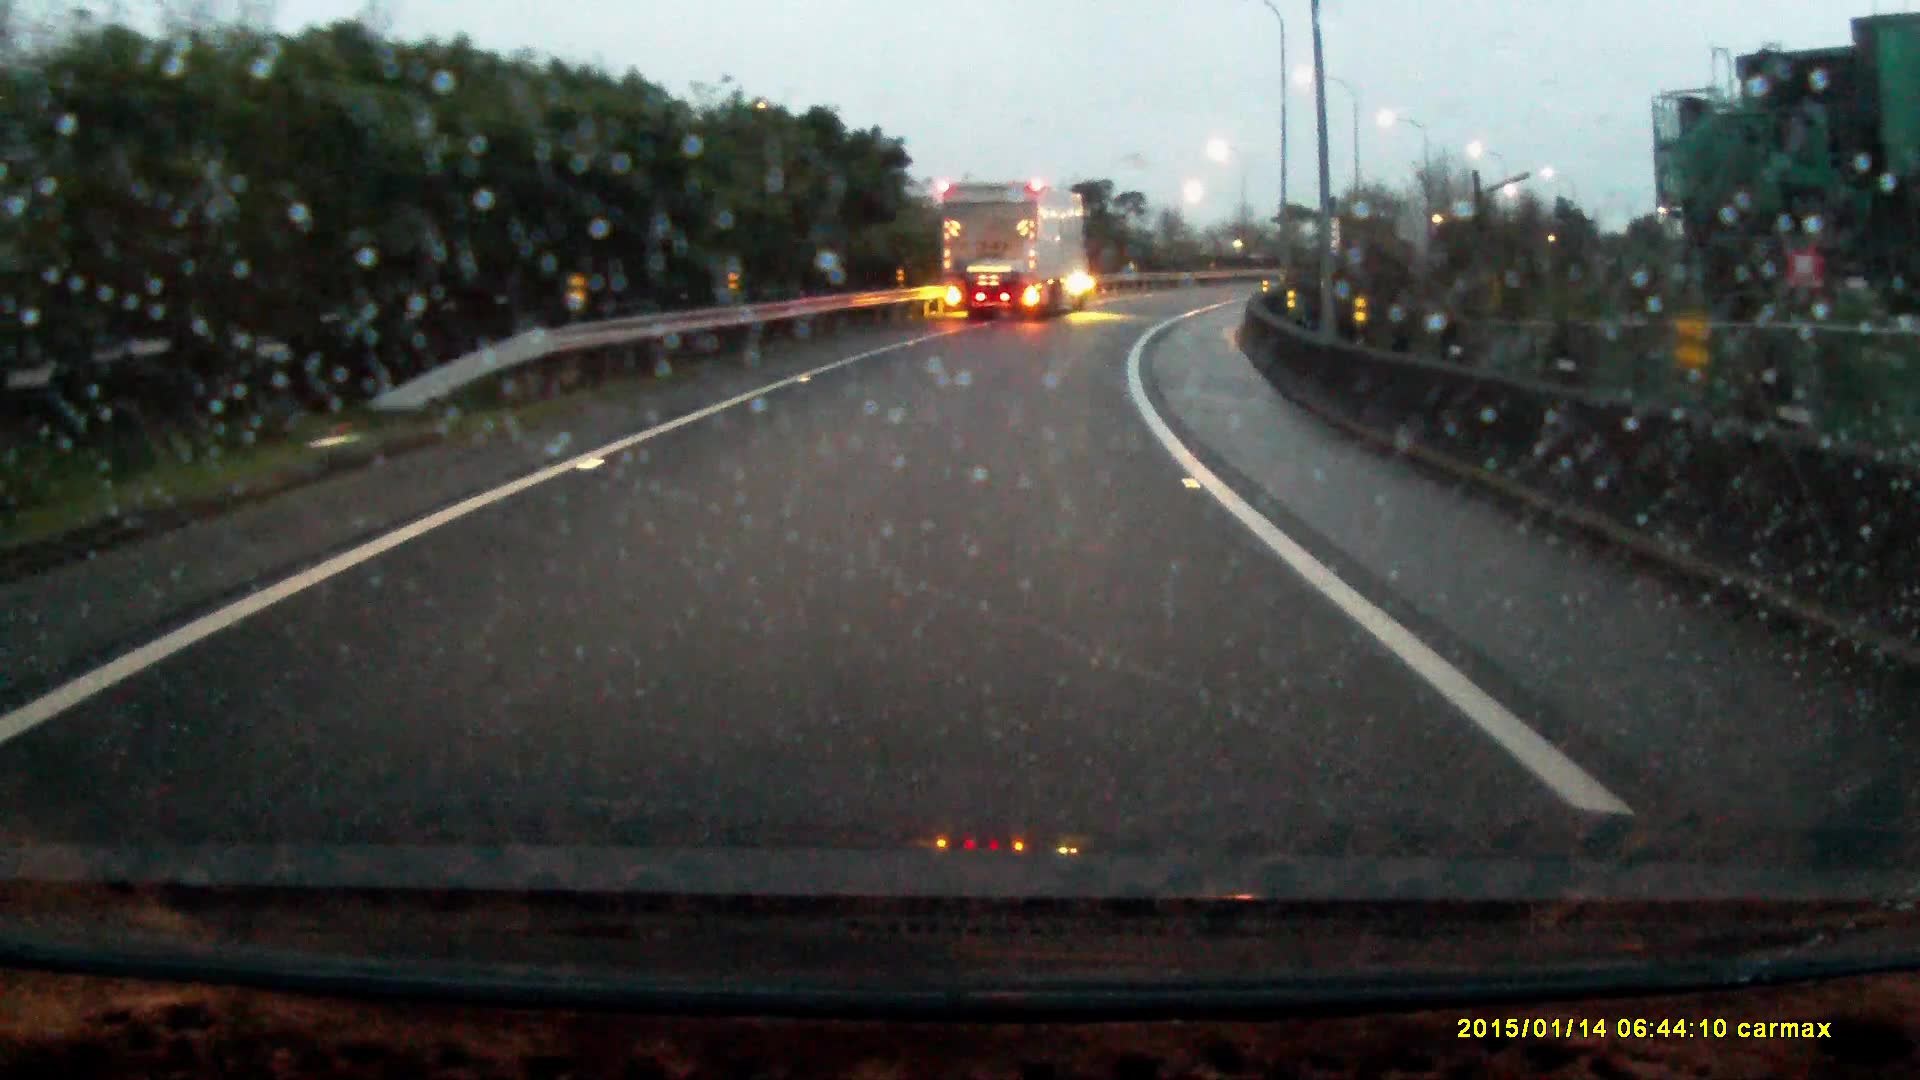vehicle: (935, 179, 1087, 323)
